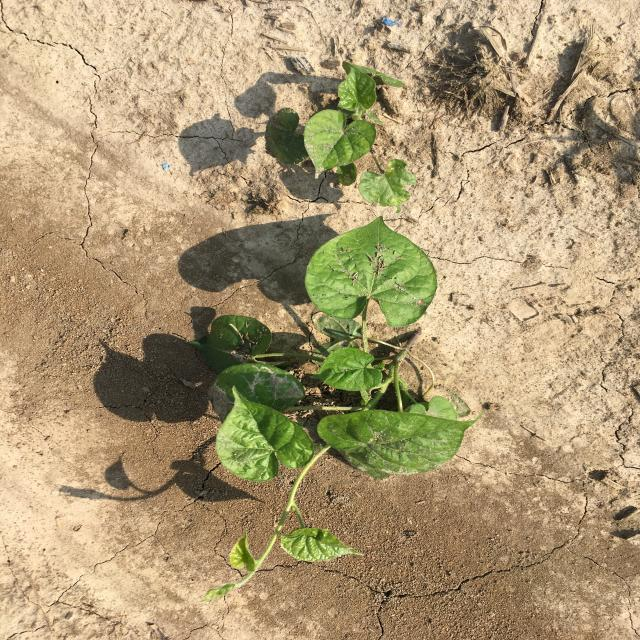MorningGlory: (186, 217, 484, 602), (266, 61, 418, 213)
